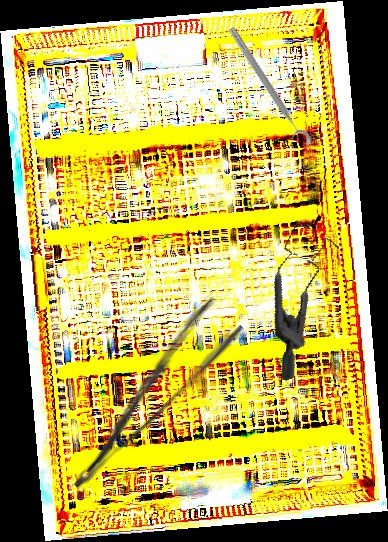Dressing Forceps: (44, 293, 248, 493)
Fixation Ring: (218, 24, 314, 154)
Speculum: (230, 212, 378, 382)
